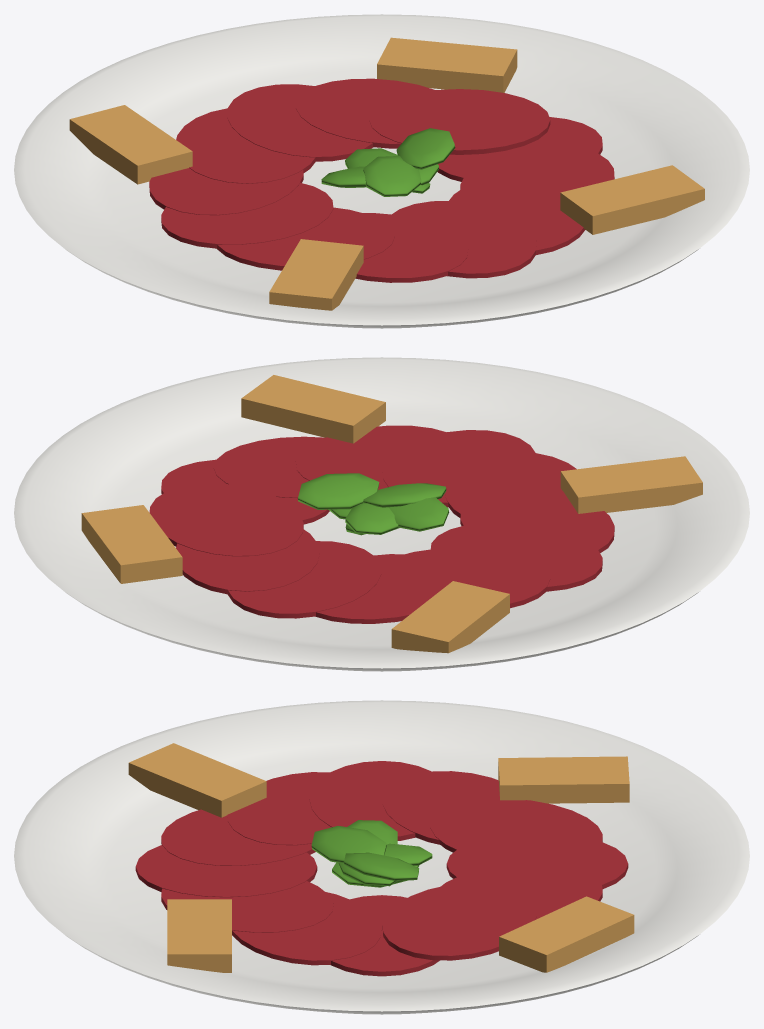
The model's file is carpaccio.glb.
3 renders of one model, top to bottom at view 1: azimuth 30°, elevation 25°; view 2: azimuth 150°, elevation 25°; view 3: azimuth 270°, elevation 25°, orthographic.
Parts seen in each view (by area): view 1: carpaccio; view 2: carpaccio; view 3: carpaccio.
Boxes of the visible parts, left/top/right/bottom form: carpaccio: left=14, top=14, right=749, bottom=328; carpaccio: left=14, top=357, right=749, bottom=671; carpaccio: left=14, top=700, right=749, bottom=1014.
Size of the model in its own units: 0.284 by 0.027 by 0.284.
